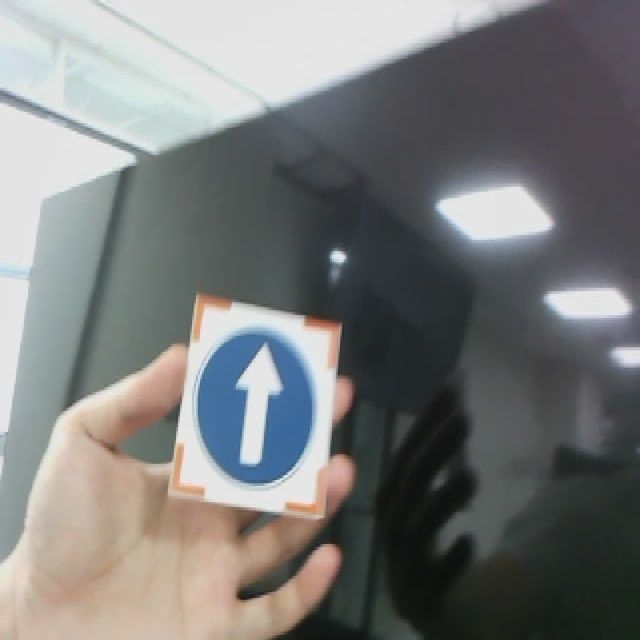strait: (164, 289, 343, 522)
